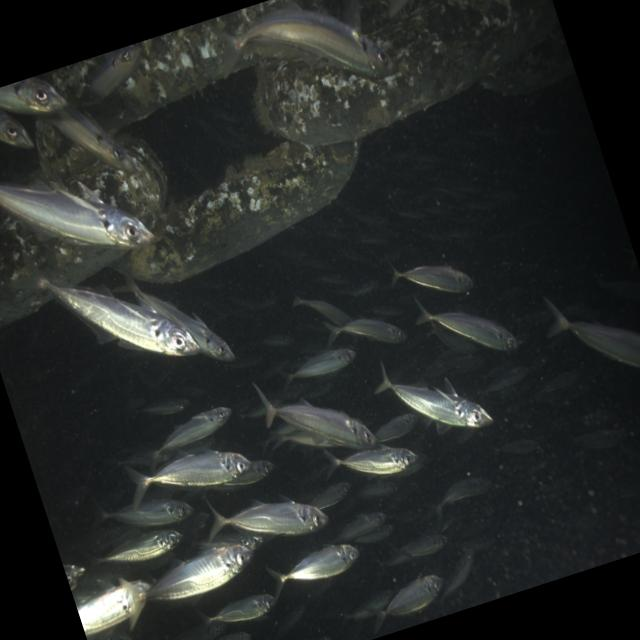ChainLink: (255, 0, 559, 145), (121, 140, 359, 282), (49, 22, 225, 131), (0, 212, 126, 328), (78, 136, 166, 229), (37, 121, 92, 181), (214, 3, 271, 34), (237, 43, 295, 68)
